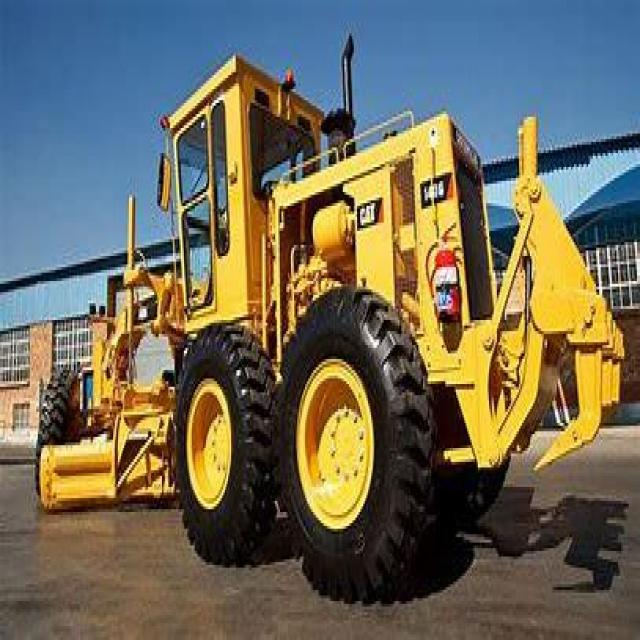Grader: (22, 39, 616, 587)
